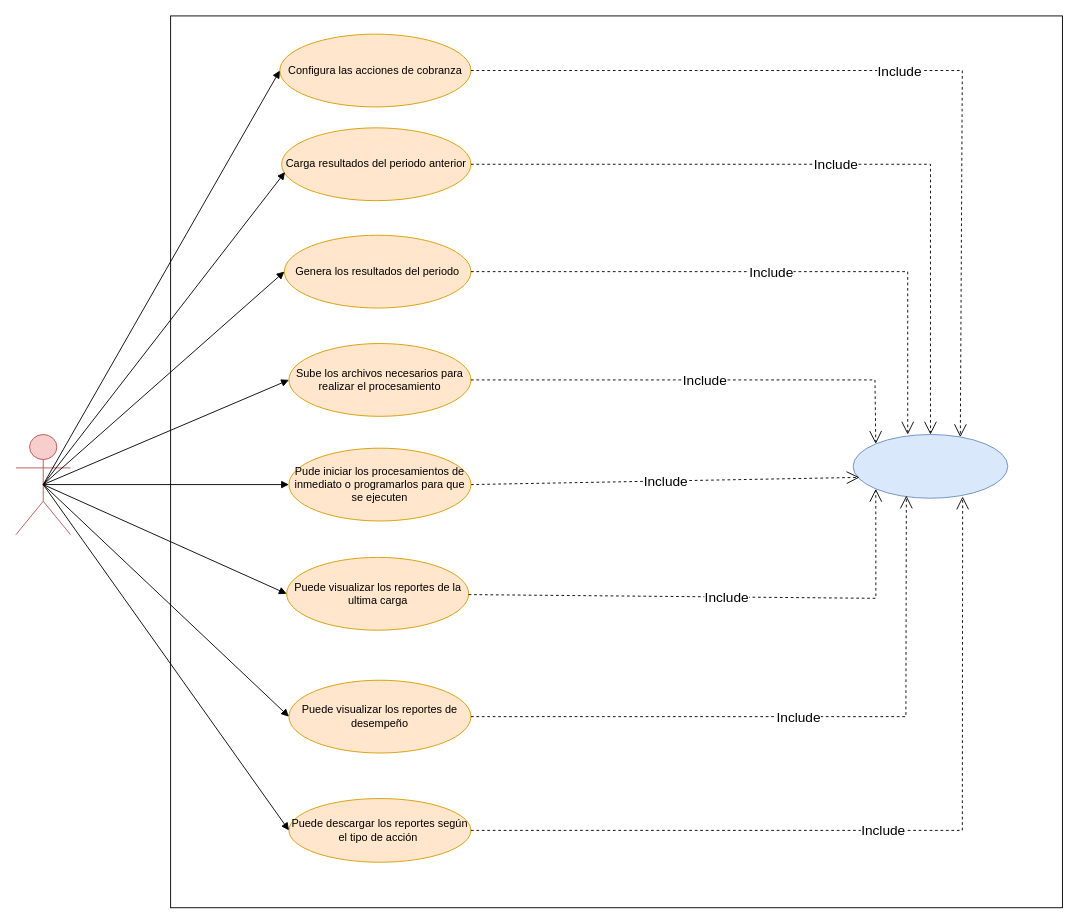
This 1078x924 diagram has some shape labels left out. Each missing label, with the centre of its shape:
Login: the point at 930,466
Usuario: the point at 43,484
